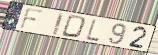2: (128, 26, 148, 51)
9: (107, 23, 128, 46)
D: (60, 14, 88, 40)
F: (19, 7, 45, 30)
I: (52, 12, 65, 37)
L: (85, 18, 101, 43)
